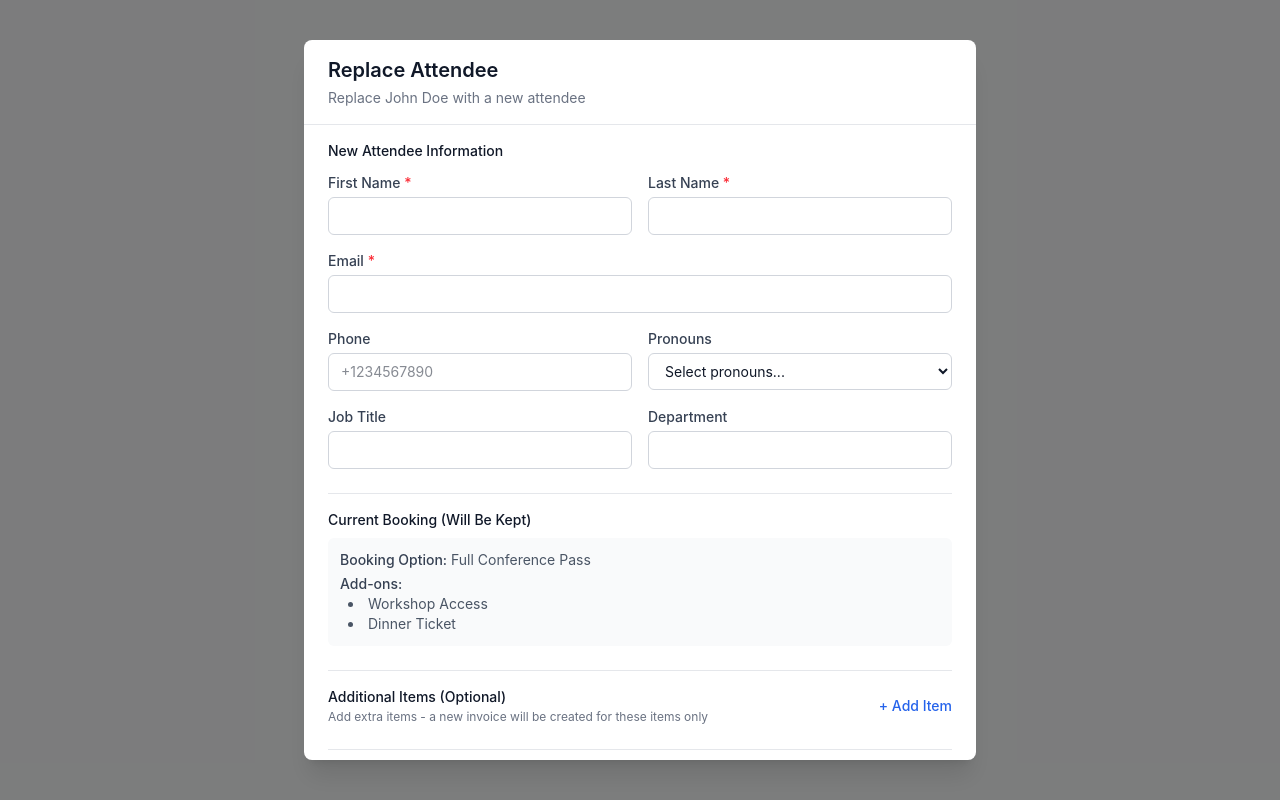
Test: ReplaceAttendeeModal › Phone Validation › should show error for invalid phone
Type "invalid" into the field with placeholder "+1234567890".
click(480, 372); type("invalid")  # box [328, 353, 632, 391]
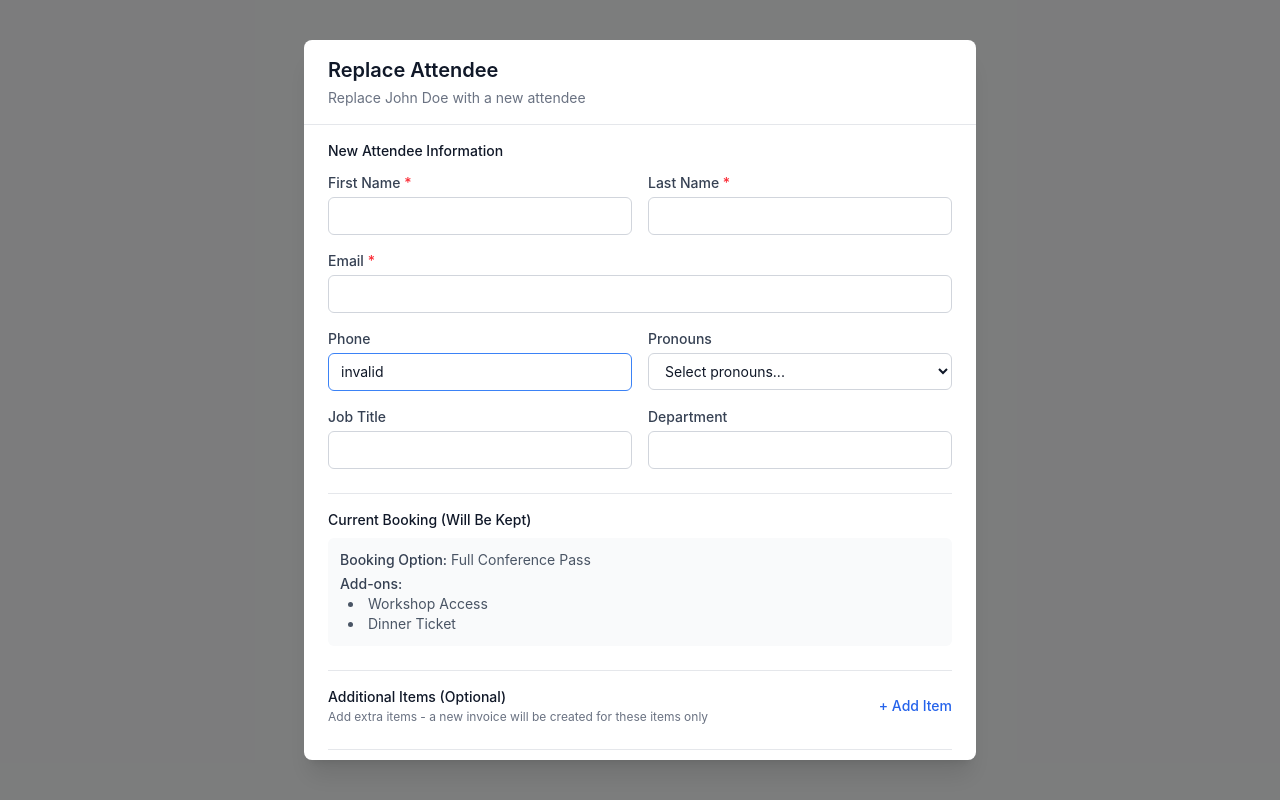
Press Tab
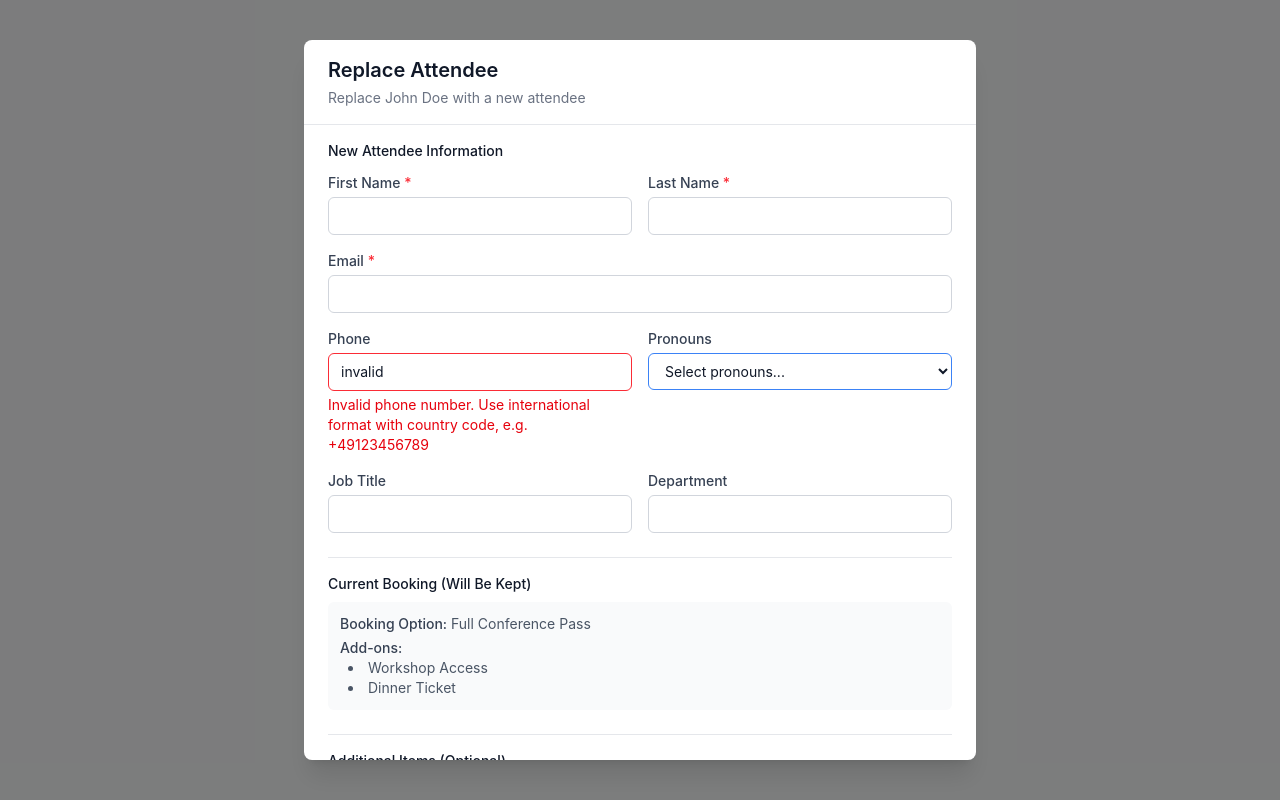
Check: the text "valid phone" is shown, box [328, 396, 590, 453]
